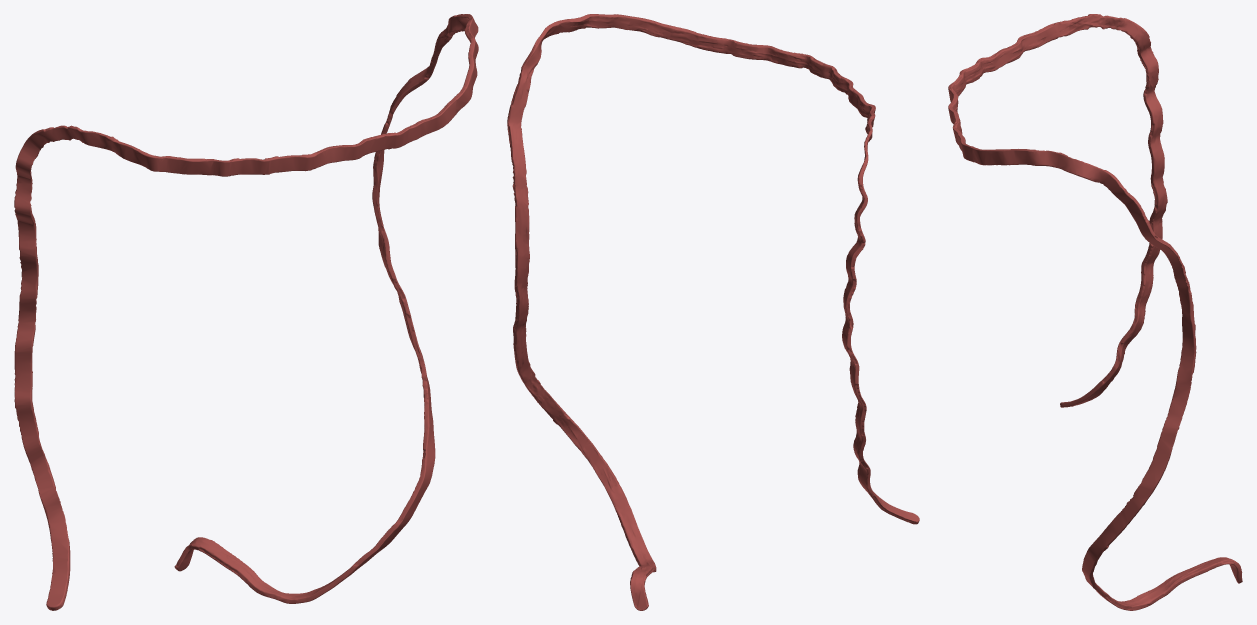
File: FMA76891.glb
3 renders of one model, left to right at view 1: azimuth 30°, elevation 25°; view 2: azimuth 150°, elevation 25°; view 3: azimuth 270°, elevation 25°, orthographic. The views are drawn at different scales.
Parts seen in each view (by area): view 1: FMA76891; view 2: FMA76891; view 3: FMA76891.
Part boxes in pixels (x1,y1,x2,y2): FMA76891: (14, 14, 478, 610); FMA76891: (507, 14, 919, 610); FMA76891: (948, 14, 1242, 610).
Size of the model in its own units: 0.1544 by 0.195 by 0.1014.
